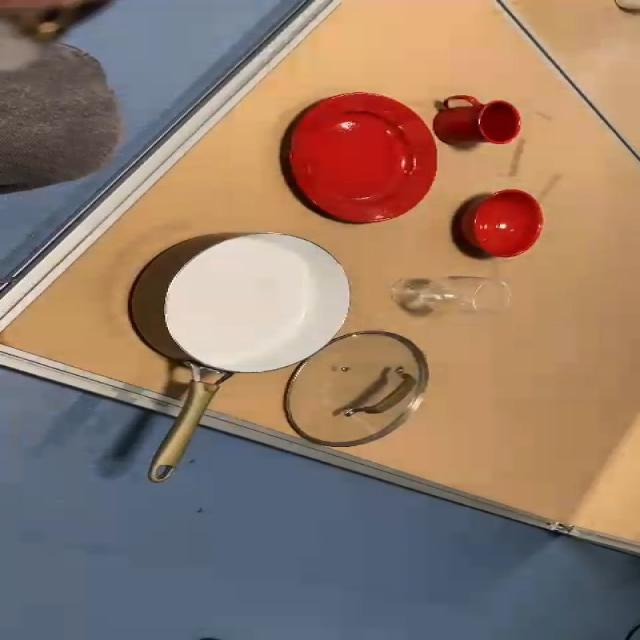Bowl: (457, 187, 548, 263)
Glass: (388, 274, 522, 316)
Plate: (282, 93, 435, 237)
cup: (422, 95, 523, 148)
pot: (125, 228, 367, 483)
